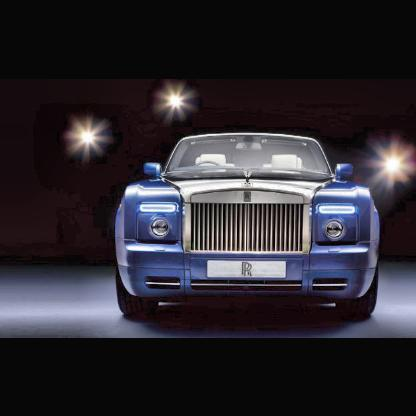Rolls-Royce Phantom Drophead Coupe Convertible 2012: (114, 130, 385, 324)
